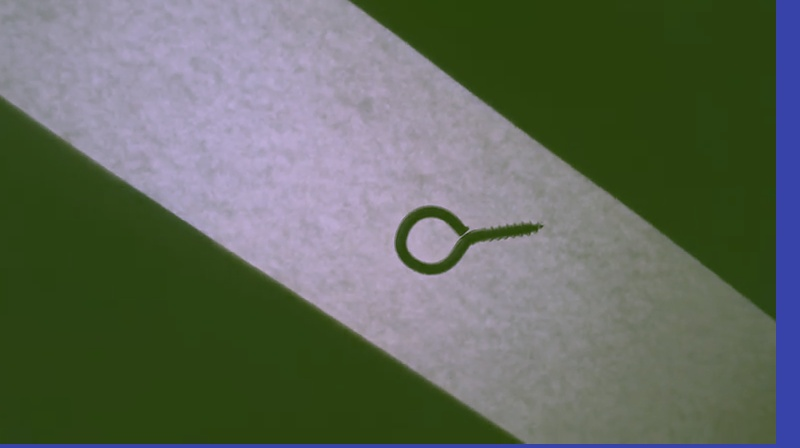O001: (393, 202, 546, 276)
